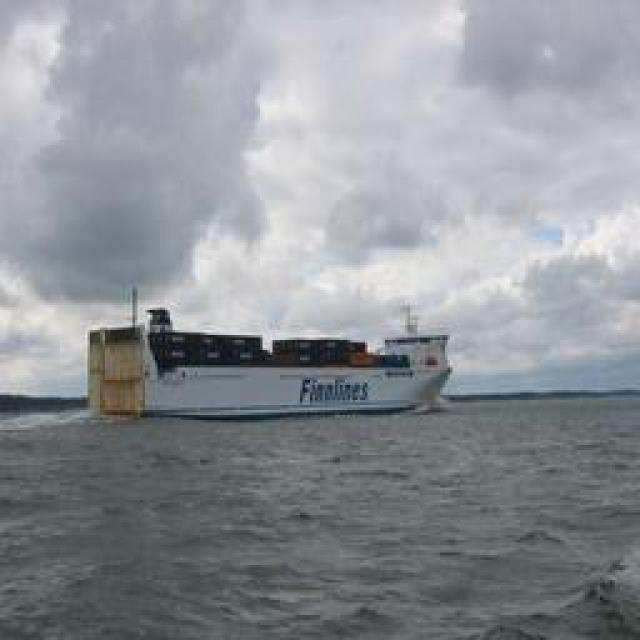Ship: (109, 319, 459, 419)
